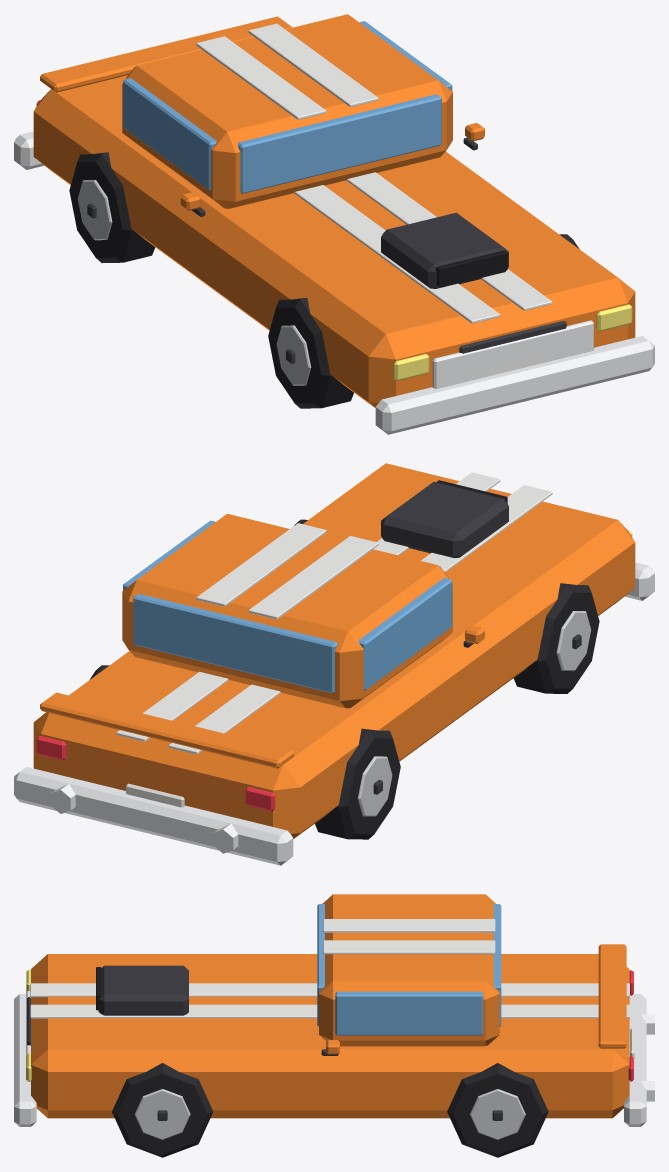
File: OrangeMuscleCar.fbx
3 views of the same model, one above another, from view 1: azimuth 30°, elevation 25°; view 2: azimuth 150°, elevation 25°; view 3: azimuth 270°, elevation 25° (orthographic). The views are drawn at different scales.
Visible parts, largest first — view 1: OrangeMuscleCar, OrangeMuscleCar_WheelFR, OrangeMuscleCar_WheelBR; view 2: OrangeMuscleCar, OrangeMuscleCar_WheelBR, OrangeMuscleCar_WheelFR; view 3: OrangeMuscleCar, OrangeMuscleCar_WheelBL, OrangeMuscleCar_WheelFL.
Part boxes in pixels (bbox=[...]): OrangeMuscleCar: bbox=[14, 14, 654, 434]; OrangeMuscleCar_WheelFR: bbox=[268, 298, 353, 408]; OrangeMuscleCar_WheelBR: bbox=[69, 152, 155, 263]; OrangeMuscleCar: bbox=[14, 463, 654, 865]; OrangeMuscleCar_WheelBR: bbox=[315, 728, 400, 839]; OrangeMuscleCar_WheelFR: bbox=[513, 583, 599, 693]; OrangeMuscleCar: bbox=[14, 894, 654, 1126]; OrangeMuscleCar_WheelBL: bbox=[447, 1063, 548, 1157]; OrangeMuscleCar_WheelFL: bbox=[111, 1063, 213, 1157].
Size of the model in its own units: 5.15 by 3.28 by 11.35.
Materials: 1 (1 with a texture image).
